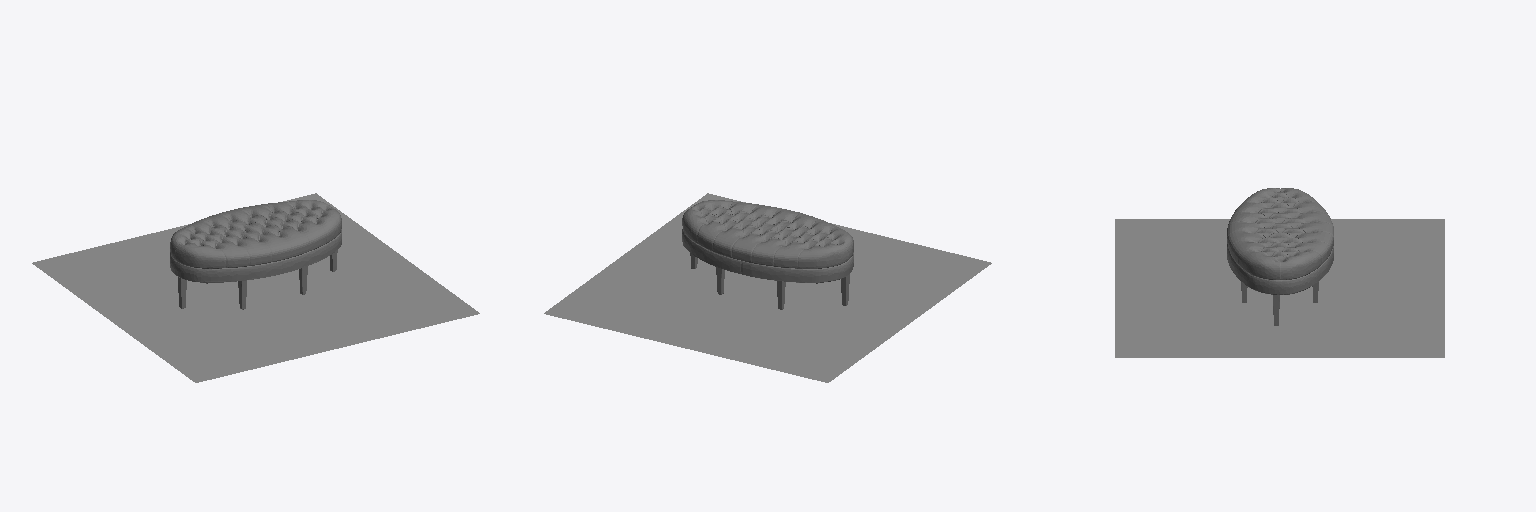
The model's file is DABH1785.obj.
3 renders of one model, left to right at view 1: azimuth 30°, elevation 25°; view 2: azimuth 150°, elevation 25°; view 3: azimuth 270°, elevation 25°, orthographic.
Parts seen in each view (by area): view 1: shadow_plane_v6, not_clear_obj_0_v6, not_clear_obj_1_v6; view 2: shadow_plane_v6, not_clear_obj_0_v6, not_clear_obj_1_v6; view 3: shadow_plane_v6, not_clear_obj_0_v6.
Boxes of the visible parts, x1,y1,x2,y2 form: shadow_plane_v6: [32, 193, 479, 382]; not_clear_obj_0_v6: [170, 200, 341, 282]; not_clear_obj_1_v6: [178, 250, 337, 309]; shadow_plane_v6: [544, 193, 991, 382]; not_clear_obj_0_v6: [682, 200, 853, 282]; not_clear_obj_1_v6: [690, 253, 849, 309]; shadow_plane_v6: [1115, 219, 1444, 357]; not_clear_obj_0_v6: [1227, 188, 1333, 294].
Bounding box in the file's own units: 213 × 46.23 × 213.